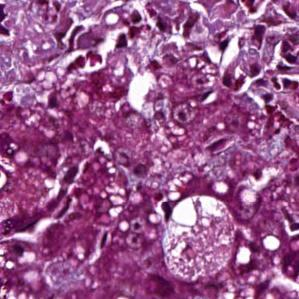ballooning: (162, 194, 238, 282)
